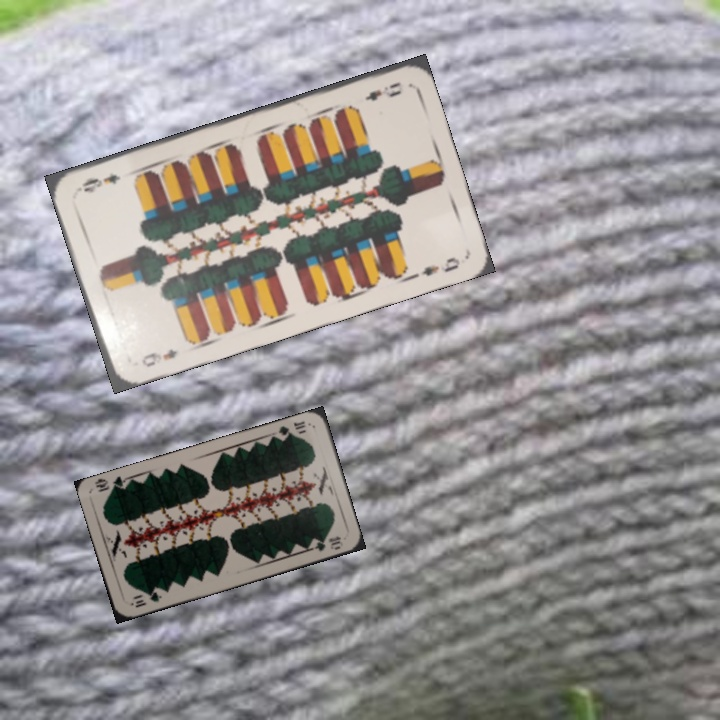E9: (137, 344, 180, 370), (360, 78, 404, 103)
G10: (126, 587, 165, 610), (274, 417, 308, 441)
